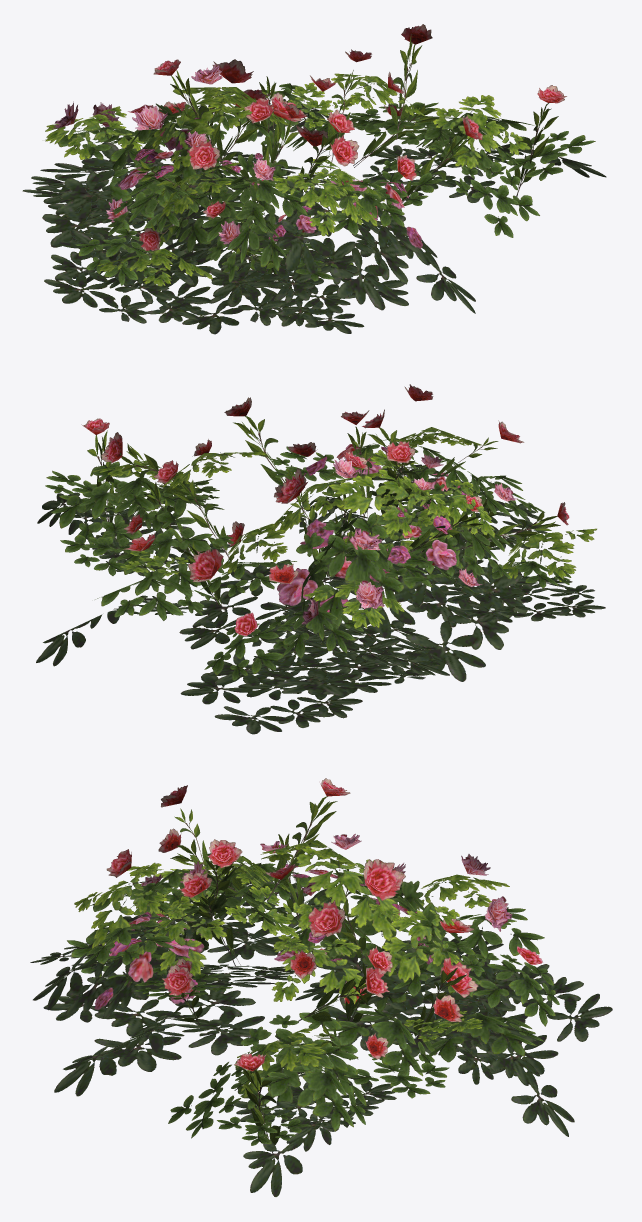
File: 1004_Item_hua_2.FBX
3 renders of one model, top to bottom at view 1: azimuth 30°, elevation 25°; view 2: azimuth 150°, elevation 25°; view 3: azimuth 270°, elevation 25°, orthographic. The views are drawn at different scales.
Parts seen in each view (by area): view 1: 1004_Item_hua_2; view 2: 1004_Item_hua_2; view 3: 1004_Item_hua_2.
Boxes of the visible parts, bbox=[...] form: 1004_Item_hua_2: bbox=[22, 24, 606, 334]; 1004_Item_hua_2: bbox=[36, 384, 605, 734]; 1004_Item_hua_2: bbox=[30, 778, 612, 1196].
Bounding box in the file's own units: 174 × 146 × 63.99.
